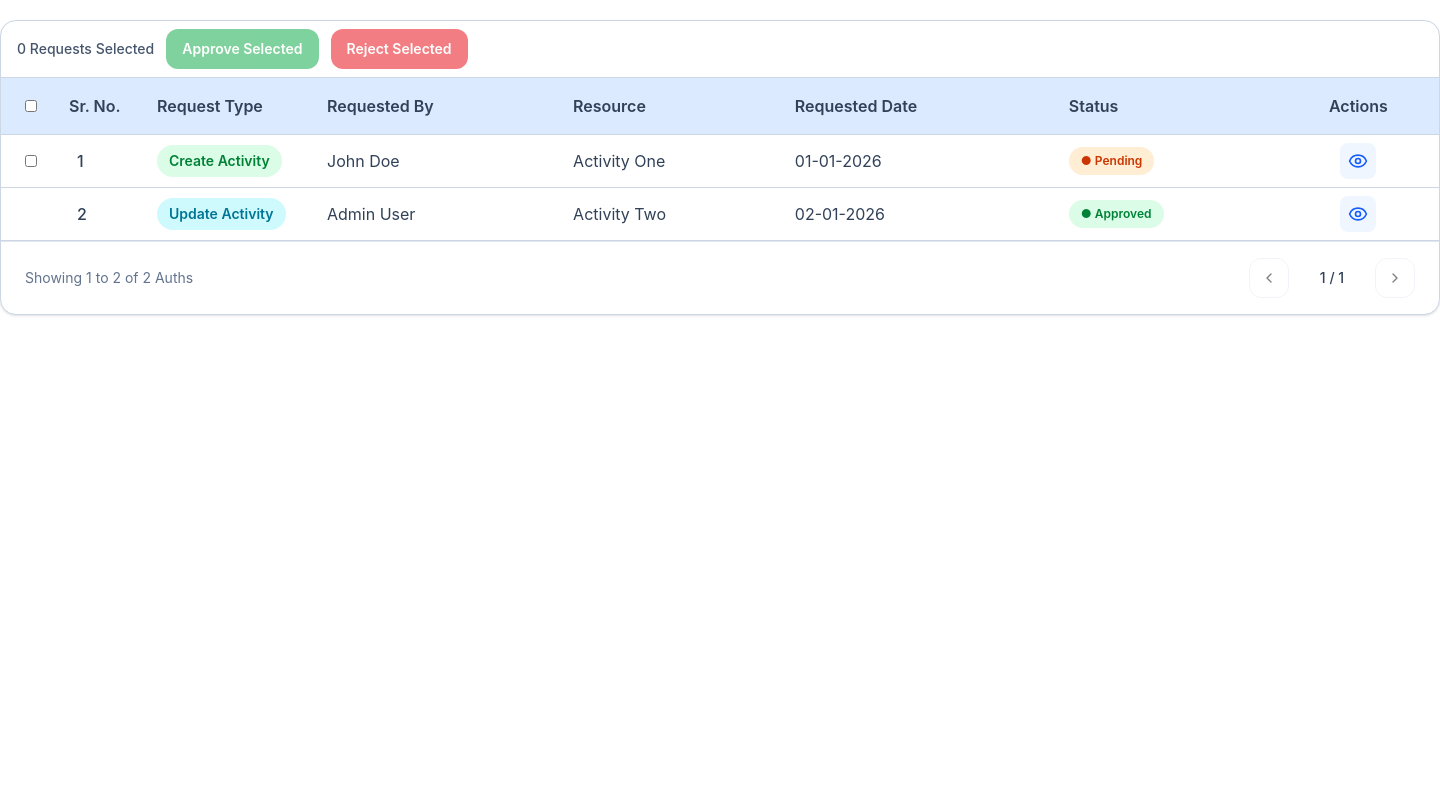
AuthorizationTable › opens approve modal
The image size is (1440, 810).
Click the checkbox in the row of "Create Activity" at (31, 161), box [25,155,37,167]
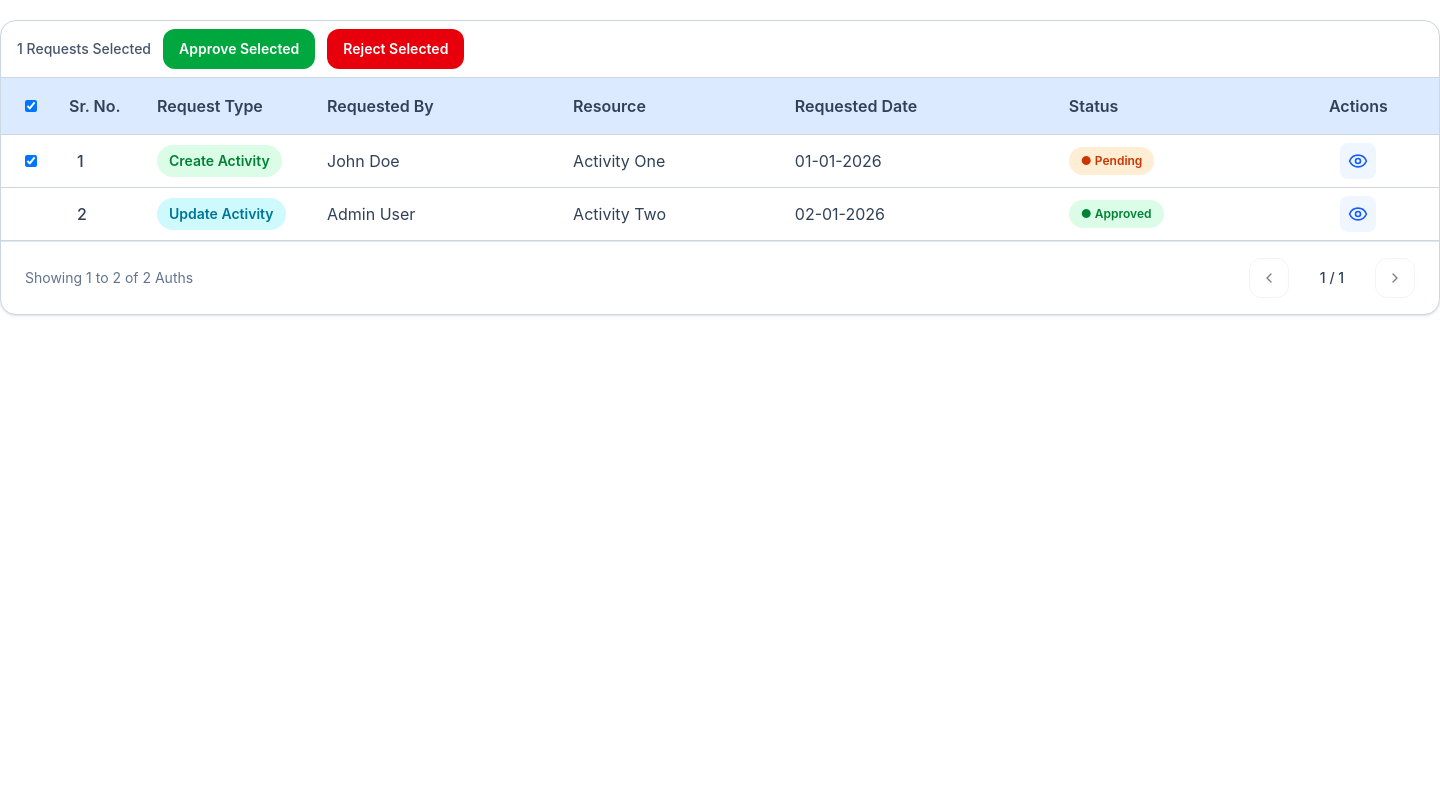
Click the button "Approve Selected" at (239, 49), box [163,29,315,69]
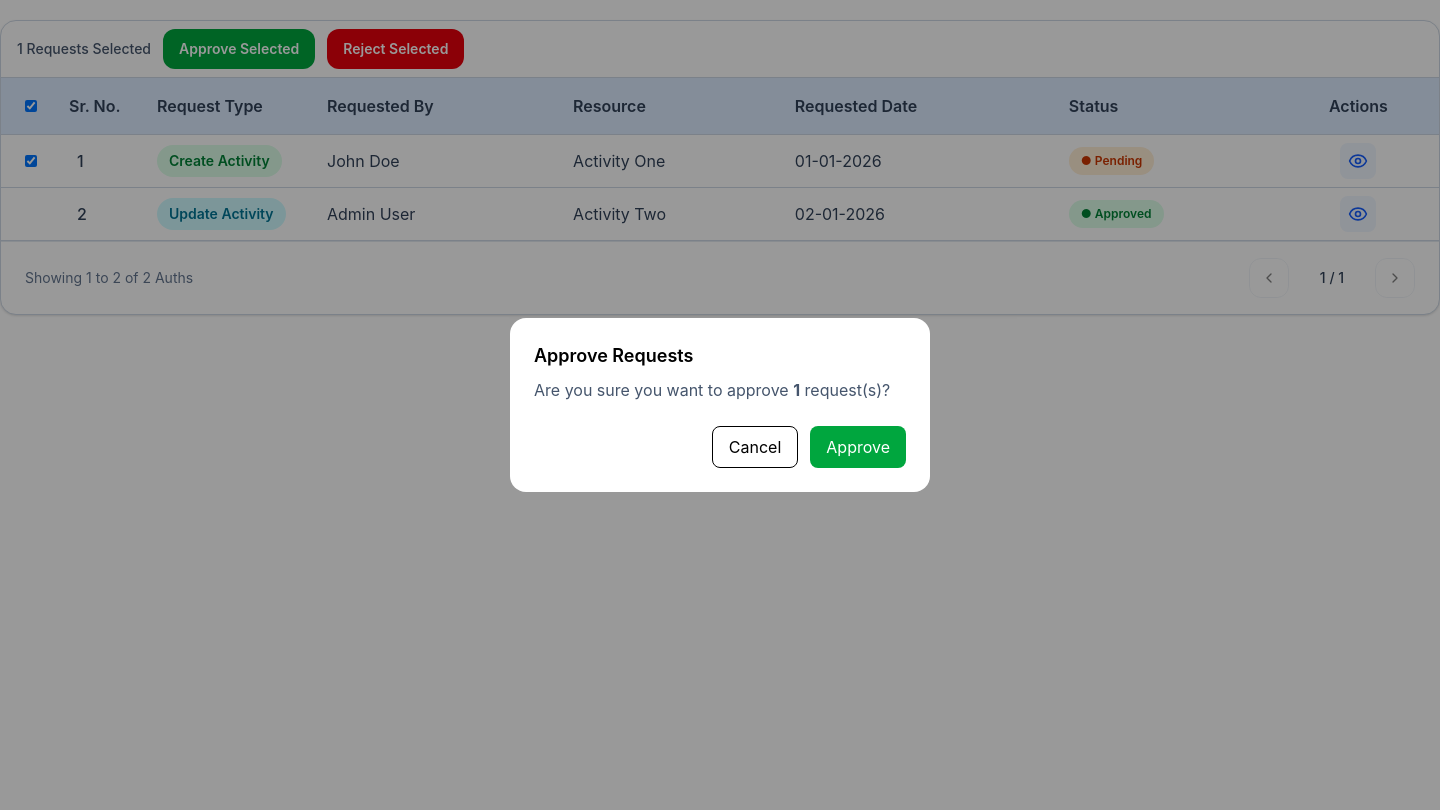
Now the heading "Approve Requests" is shown, box [534,345,693,366]
